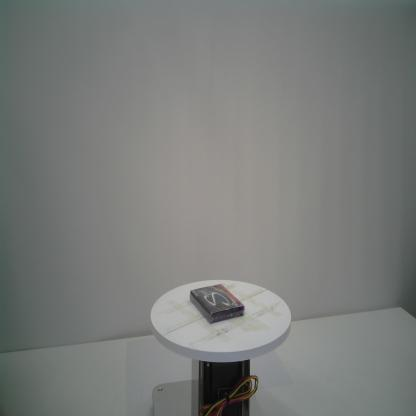Gum: (190, 283, 245, 325)
